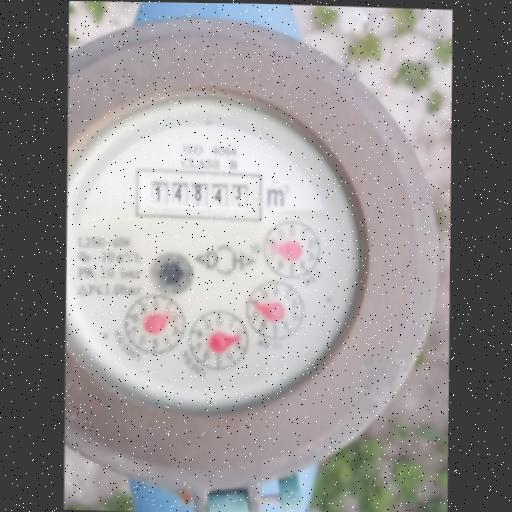1: (152, 183, 167, 206)
3: (233, 185, 248, 207)
4: (173, 183, 188, 205), (214, 185, 227, 206)
8: (193, 184, 208, 206)
border_water_meter_number: (134, 168, 263, 221)
